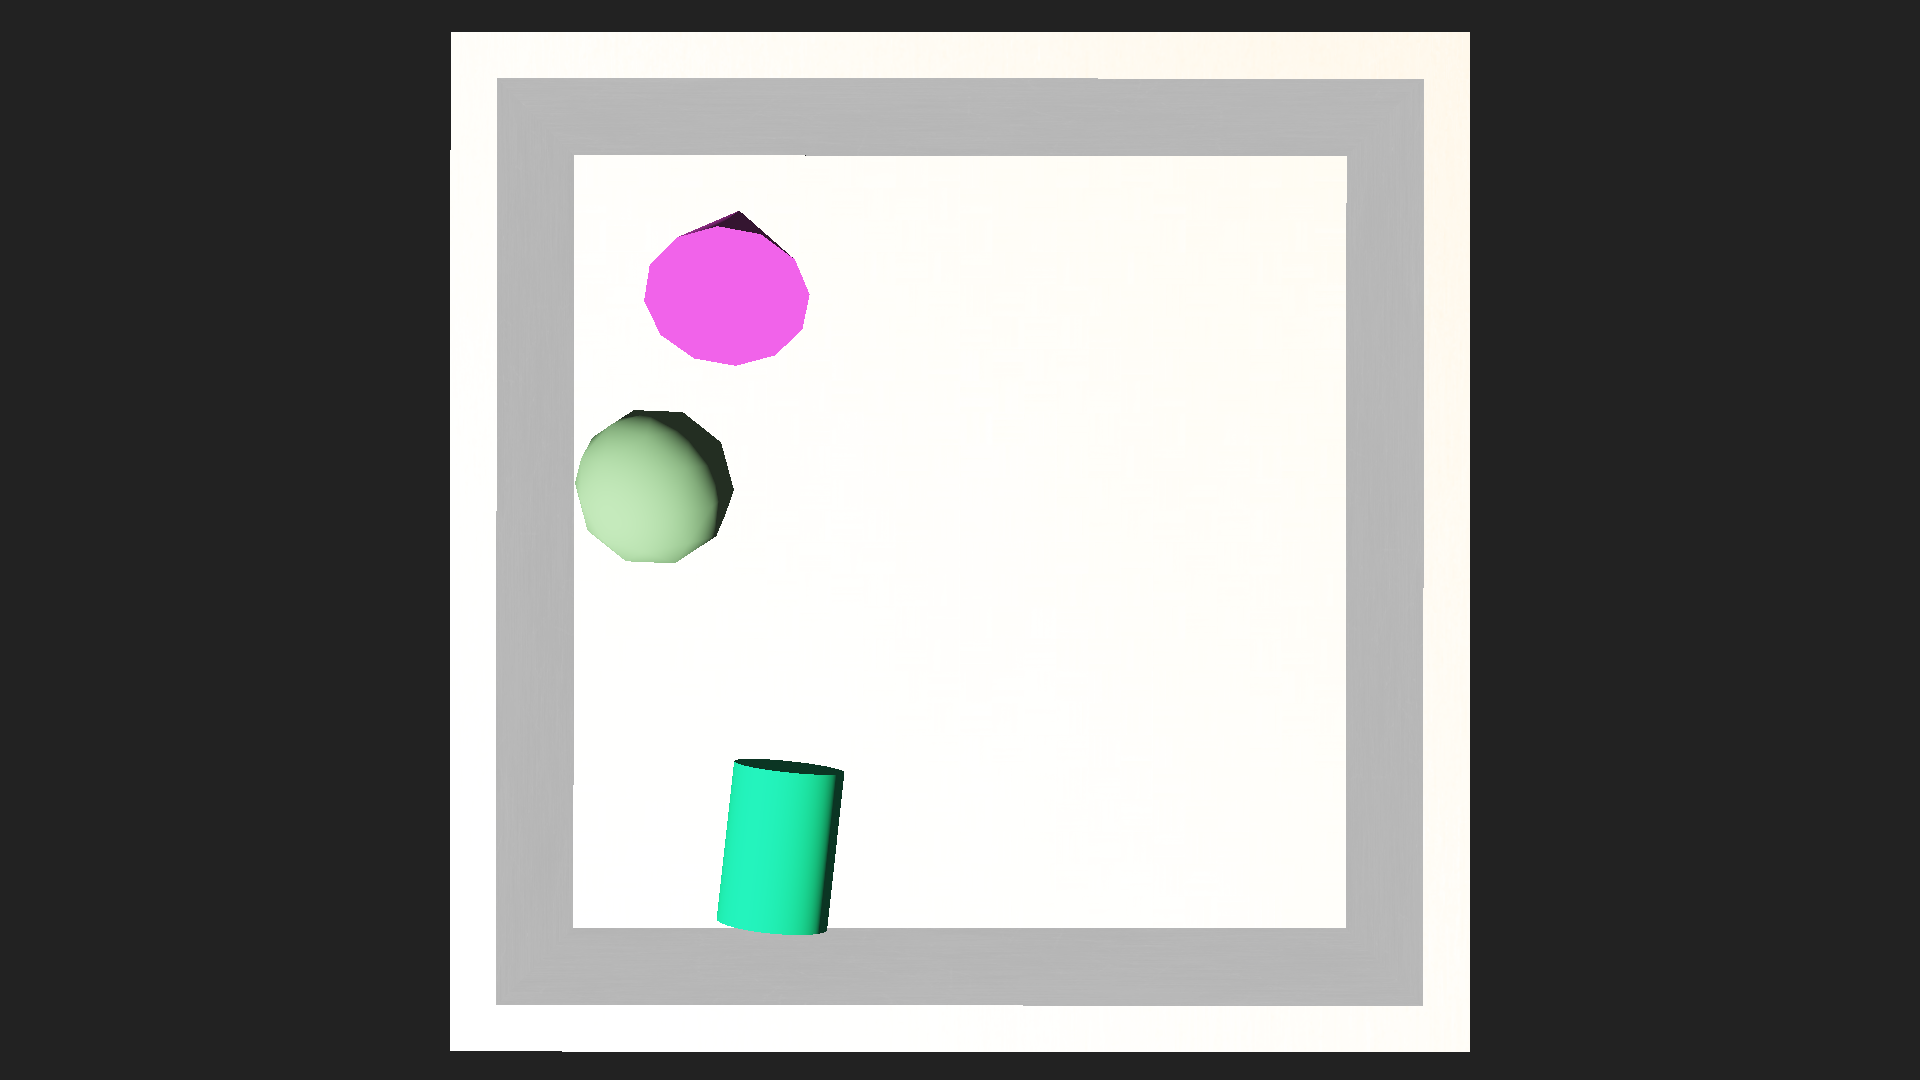cone: (709, 754, 847, 938)
cylinder: (641, 123, 815, 371)
sphere: (575, 406, 733, 566)
